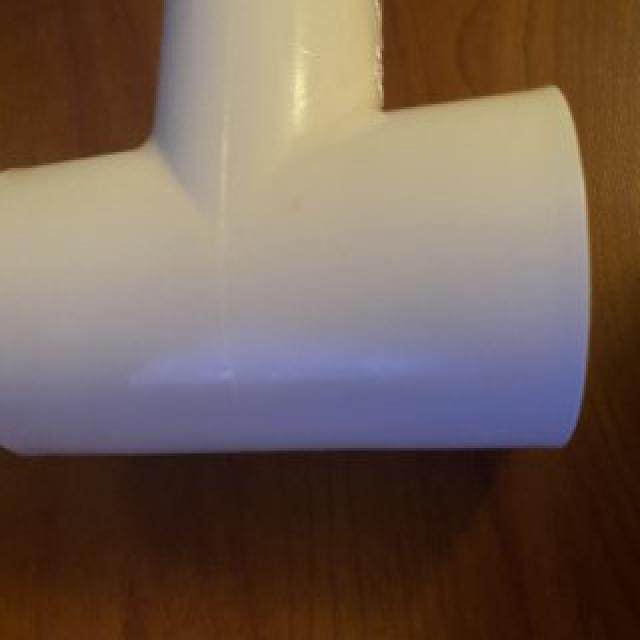T Joint: (0, 0, 592, 459)
